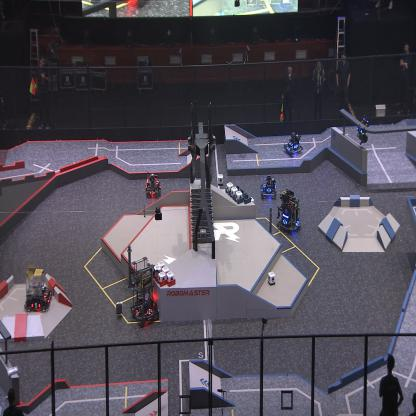car: (129, 255, 162, 328), (24, 264, 53, 312), (276, 187, 302, 234), (283, 131, 304, 157), (145, 172, 162, 200), (260, 174, 276, 202)
